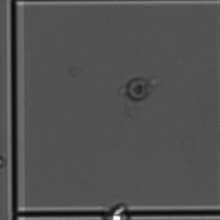Dead Cell: (126, 72, 152, 102)
